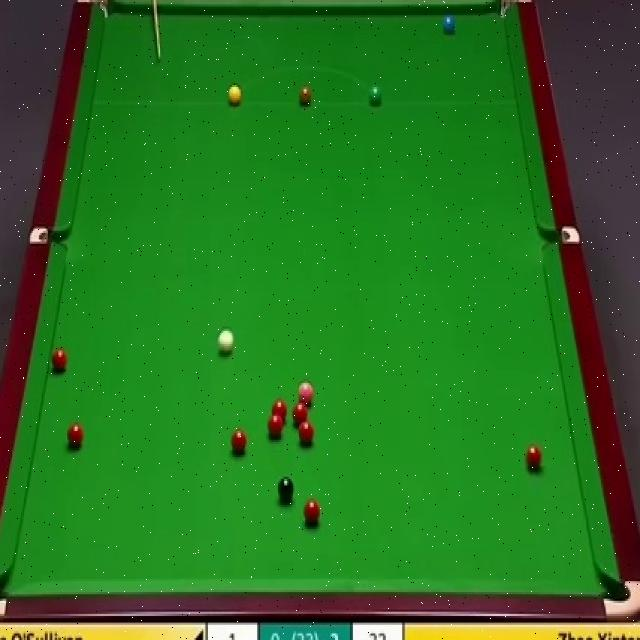black-ball: (277, 477, 296, 502)
blue-ball: (441, 13, 455, 35)
brown-ball: (299, 85, 313, 106)
green-ball: (368, 85, 383, 108)
pink-ball: (298, 379, 315, 406)
red-ball: (523, 443, 543, 471), (266, 414, 286, 439), (67, 420, 83, 449), (298, 419, 314, 446), (230, 428, 247, 453), (293, 402, 309, 428), (52, 349, 68, 373), (272, 399, 288, 422), (305, 499, 320, 523)
white-ball: (216, 327, 235, 359)
yellow-ball: (226, 85, 243, 106)
